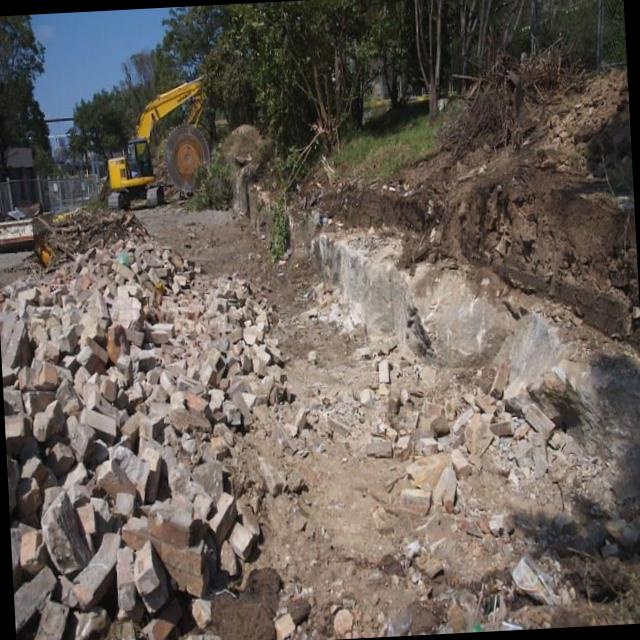Excavadora: (101, 72, 218, 213)
